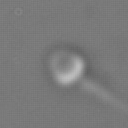normal: (80, 74, 128, 121)
